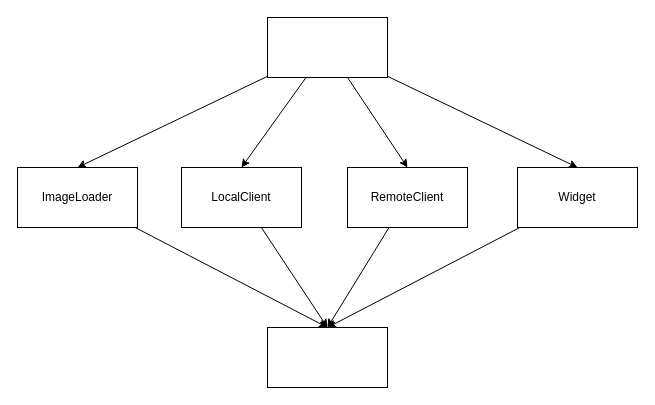
This 655x405 diagram has some shape labels left out. The centre of each missing label's shape, as x and y in pixels:
app: point 327,47
Base: point 327,357
